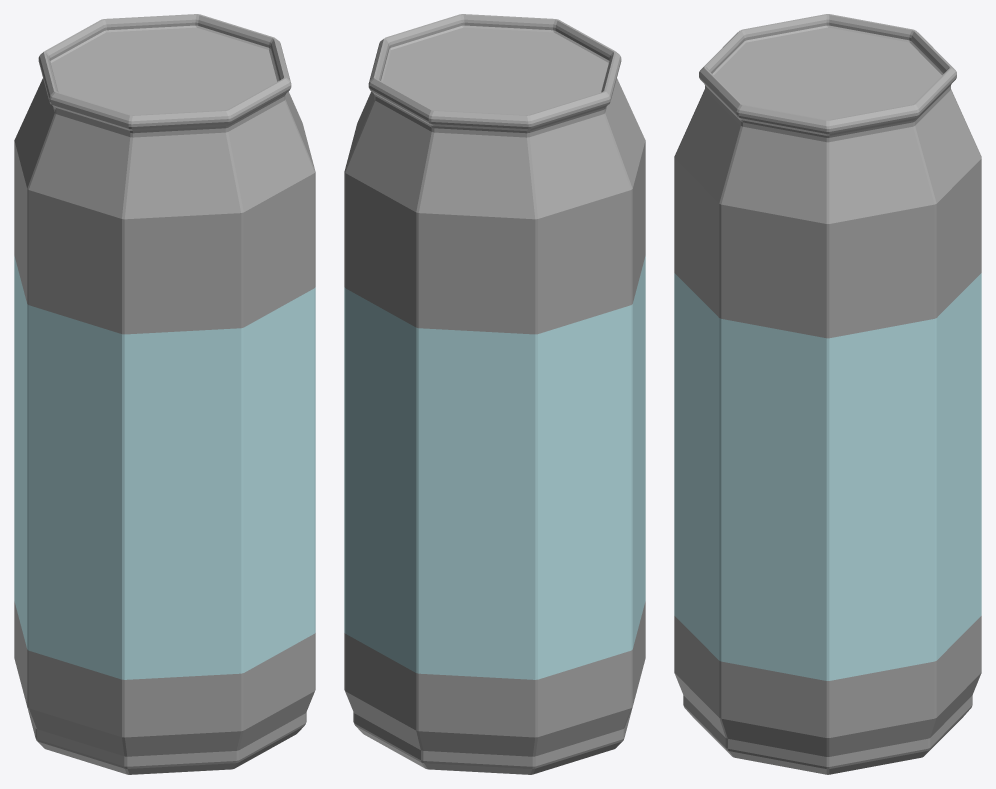
File: Drink_Can_exportPrep.gltf
3 views of the same model, side by side, from view 1: azimuth 30°, elevation 25°; view 2: azimuth 150°, elevation 25°; view 3: azimuth 270°, elevation 25° (orthographic).
Parts seen in each view (by area): view 1: DrinkCan; view 2: DrinkCan; view 3: DrinkCan.
Part boxes in pixels (bbox=[...]): DrinkCan: bbox=[14, 14, 315, 774]; DrinkCan: bbox=[344, 14, 645, 774]; DrinkCan: bbox=[674, 14, 981, 774].
Bounding box in the file's own units: 0.0498 × 0.1138 × 0.0488.
